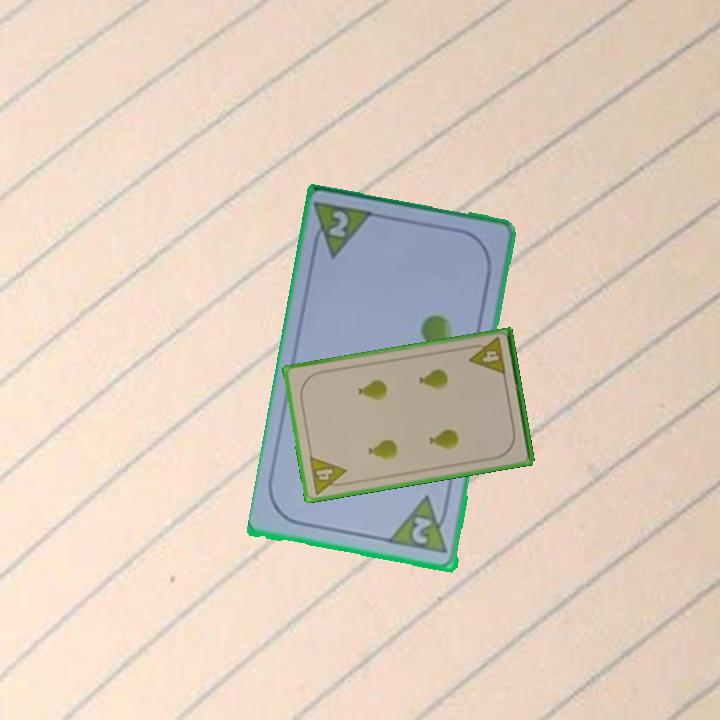2p: (308, 198, 378, 263), (408, 513, 436, 548)
4p: (306, 453, 351, 497), (464, 334, 508, 378)
